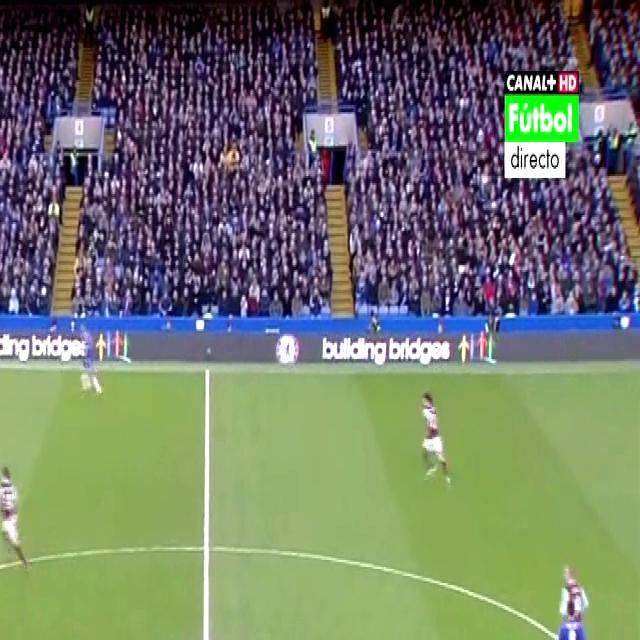soccer-player: (417, 380, 462, 495), (0, 459, 40, 581), (545, 553, 591, 640), (75, 320, 106, 404)
